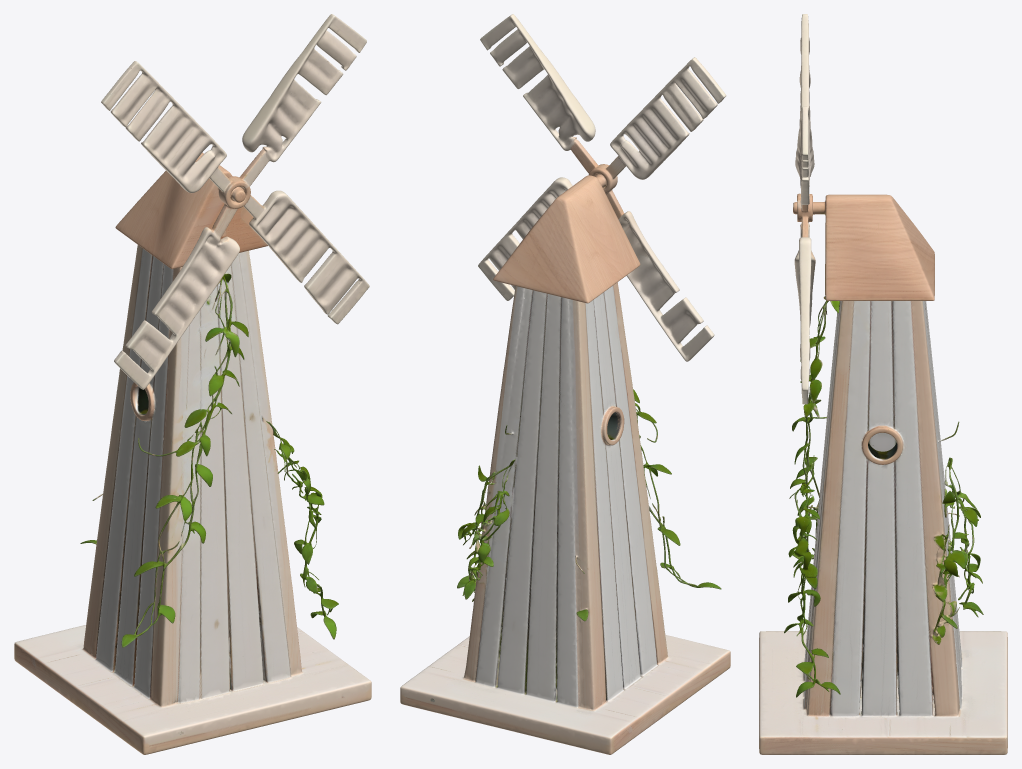
File: Style2_Windmill.glb
3 renders of one model, left to right at view 1: azimuth 30°, elevation 25°; view 2: azimuth 150°, elevation 25°; view 3: azimuth 270°, elevation 25°, orthographic. The views are drawn at different scales.
Size of the model in its own units: 0.7867 by 1.9 by 0.6663.
1 material, 1 textured.
